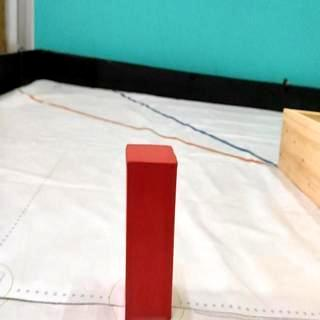redbox: (124, 143, 178, 320)
